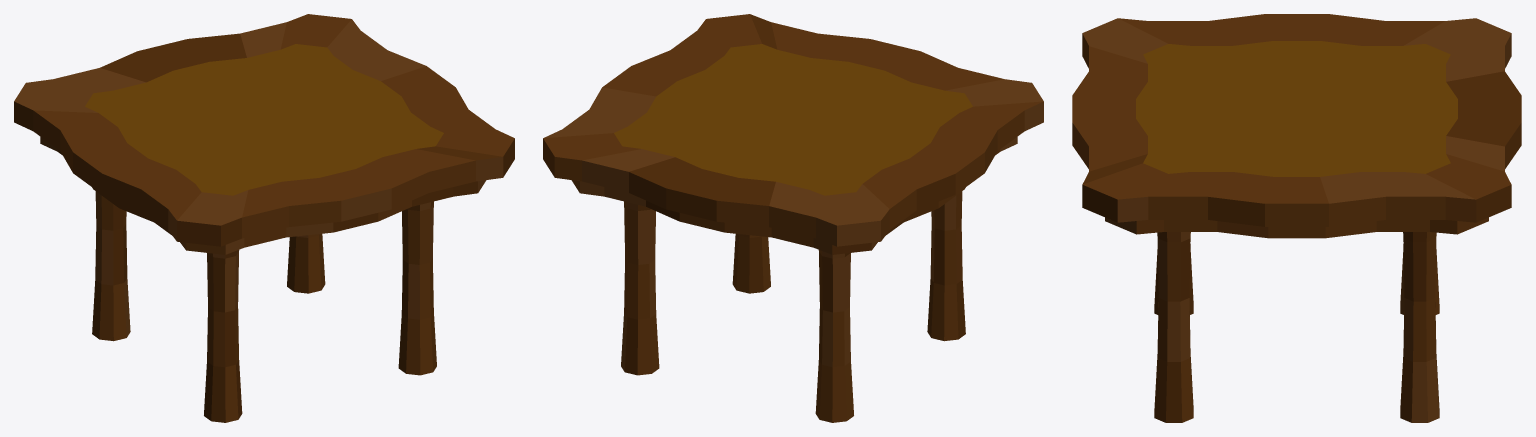
Rendered from castle_town_interior_talbe_stand.fbx.
3 renders of one model, left to right at view 1: azimuth 30°, elevation 25°; view 2: azimuth 150°, elevation 25°; view 3: azimuth 270°, elevation 25°, orthographic. The views are drawn at different scales.
Visible parts, largest first — view 1: Cube; view 2: Cube; view 3: Cube.
Part boxes in pixels (<box>): Cube: <box>14,14,514,422</box>; Cube: <box>543,14,1043,422</box>; Cube: <box>1072,14,1521,422</box>.
Size of the model in its own units: 794 by 494 by 794.
